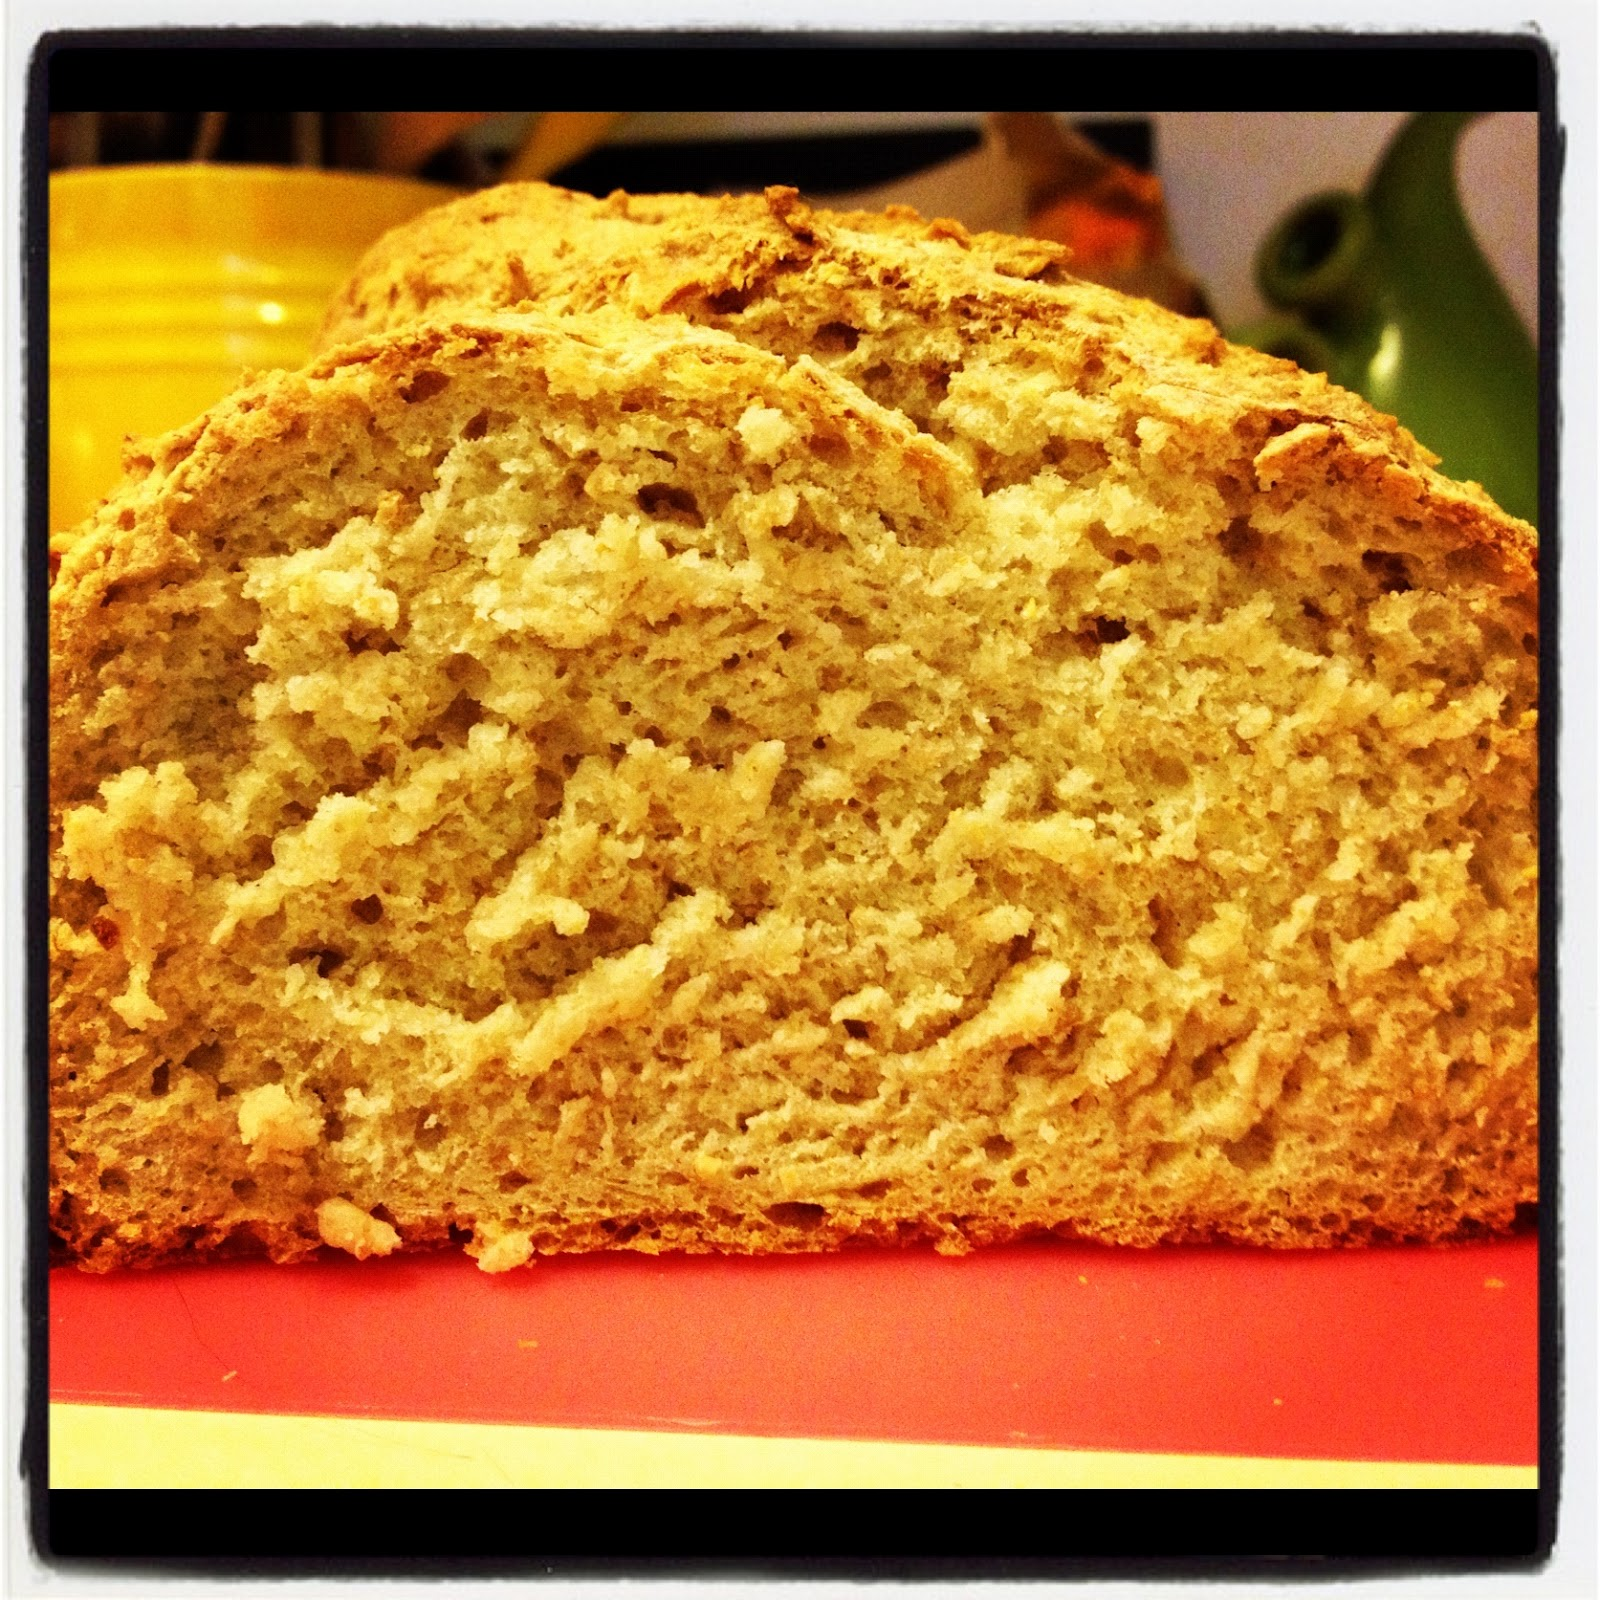slice of bread: (51, 182, 1549, 1289)
